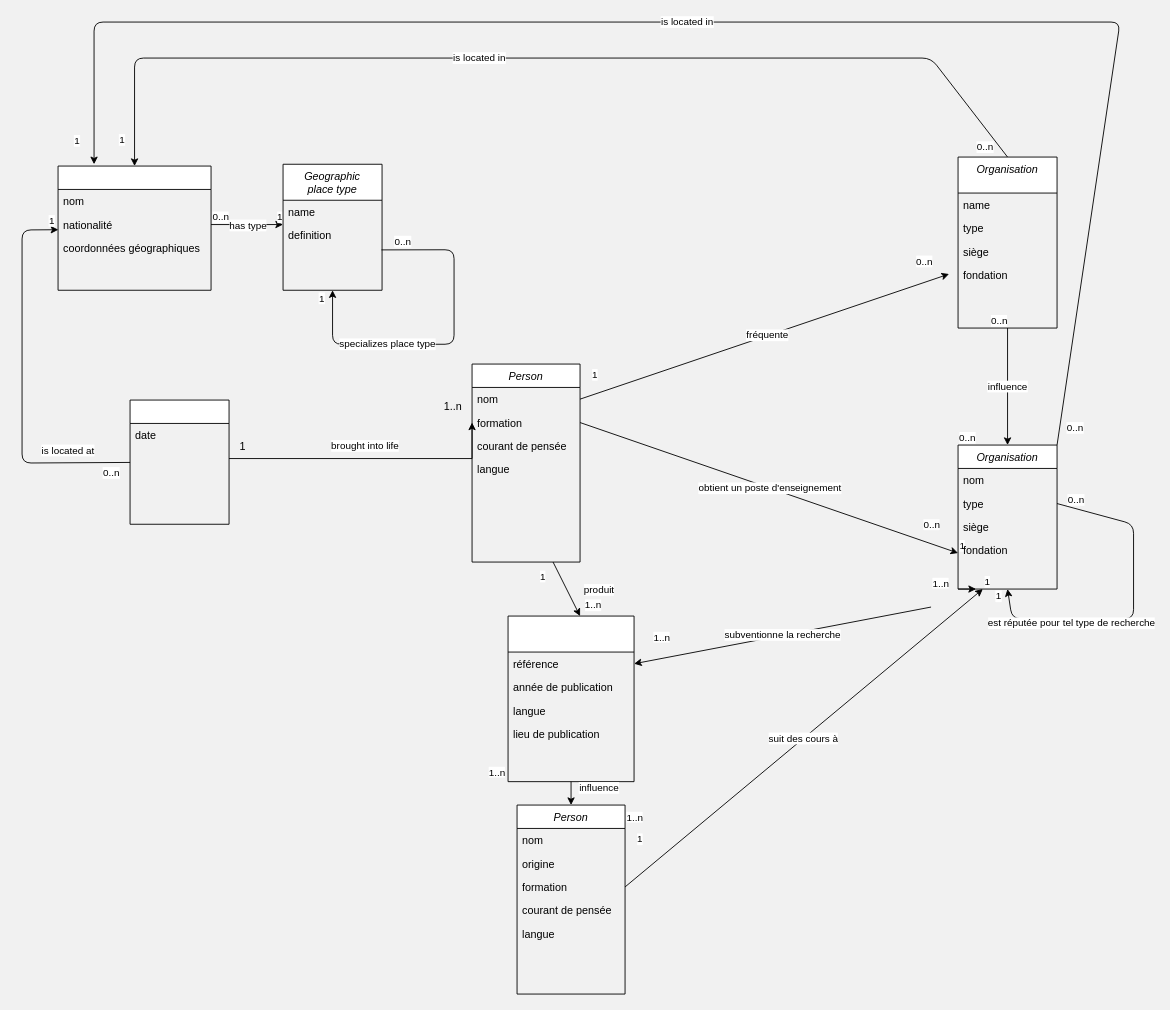
Image size: 1170x1010. Some labels were removed from this diagram. Here are the shapes that lost their labels. From the top down, the box of each, then its label:
(57, 165, 211, 290): Geographical place
(129, 399, 229, 524): Birth
(507, 615, 634, 782): Oeuvre(s), écrit scientifique
